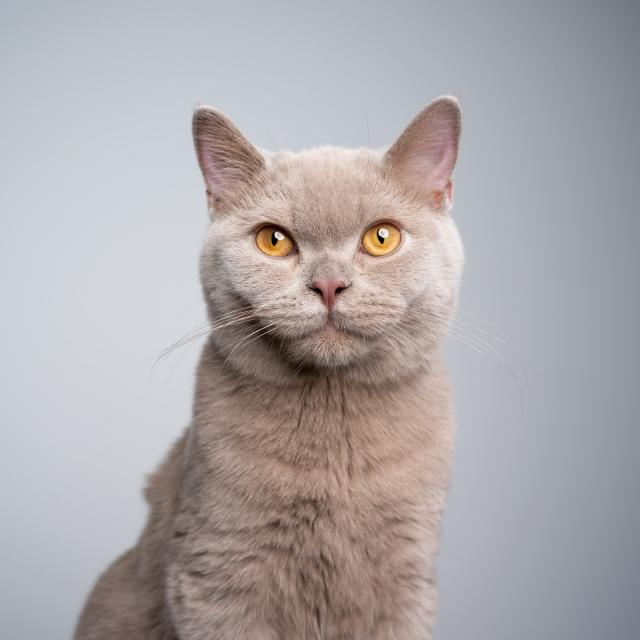Cat: (62, 87, 486, 640)
